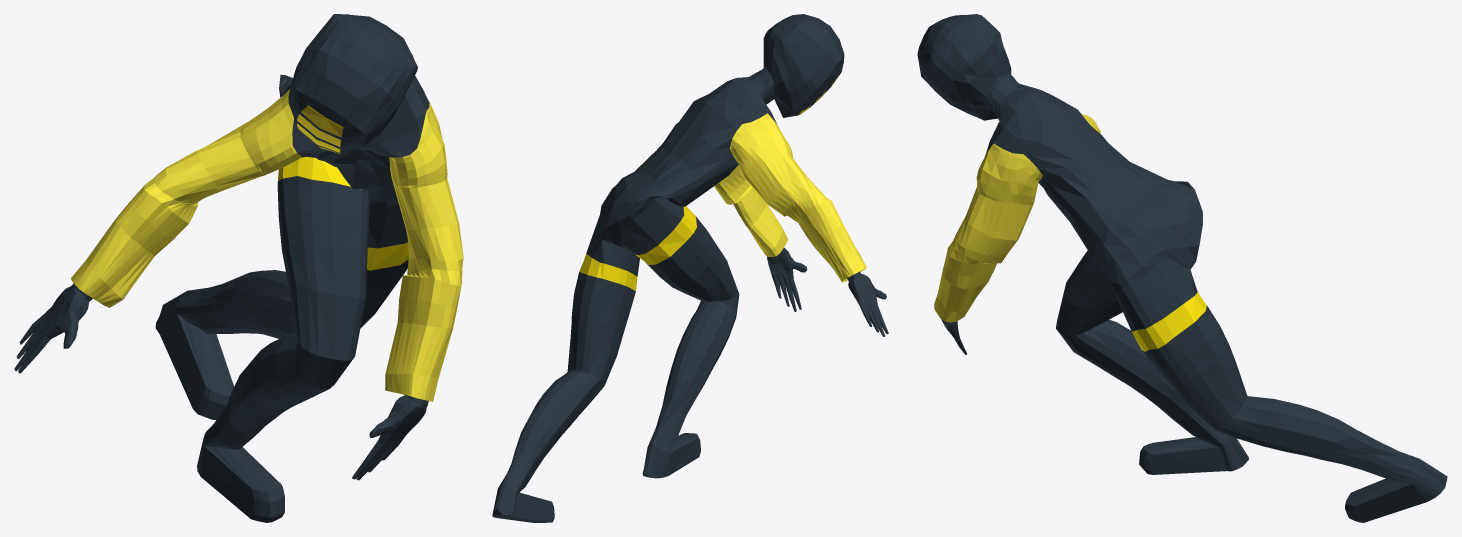
File: Sentry_Die_000007.obj
3 views of the same model, side by side, from view 1: azimuth 30°, elevation 25°; view 2: azimuth 150°, elevation 25°; view 3: azimuth 270°, elevation 25° (orthographic). The views are drawn at different scales.
Parts seen in each view (by area): view 1: Cube; view 2: Cube; view 3: Cube.
Boxes of the visible parts, bbox=[...] form: Cube: bbox=[14, 14, 463, 522]; Cube: bbox=[492, 14, 888, 522]; Cube: bbox=[917, 14, 1447, 522].
Bounding box in the file's own units: 1.95 × 2.65 × 2.79.
